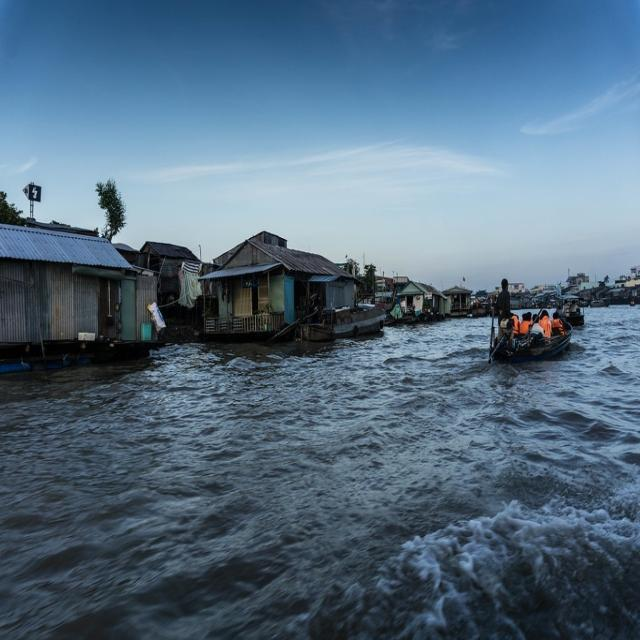boat: (476, 293, 570, 362)
